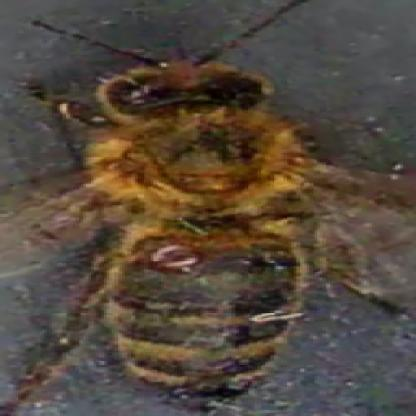bee: (65, 51, 304, 404)
vaoora: (150, 246, 205, 275)
